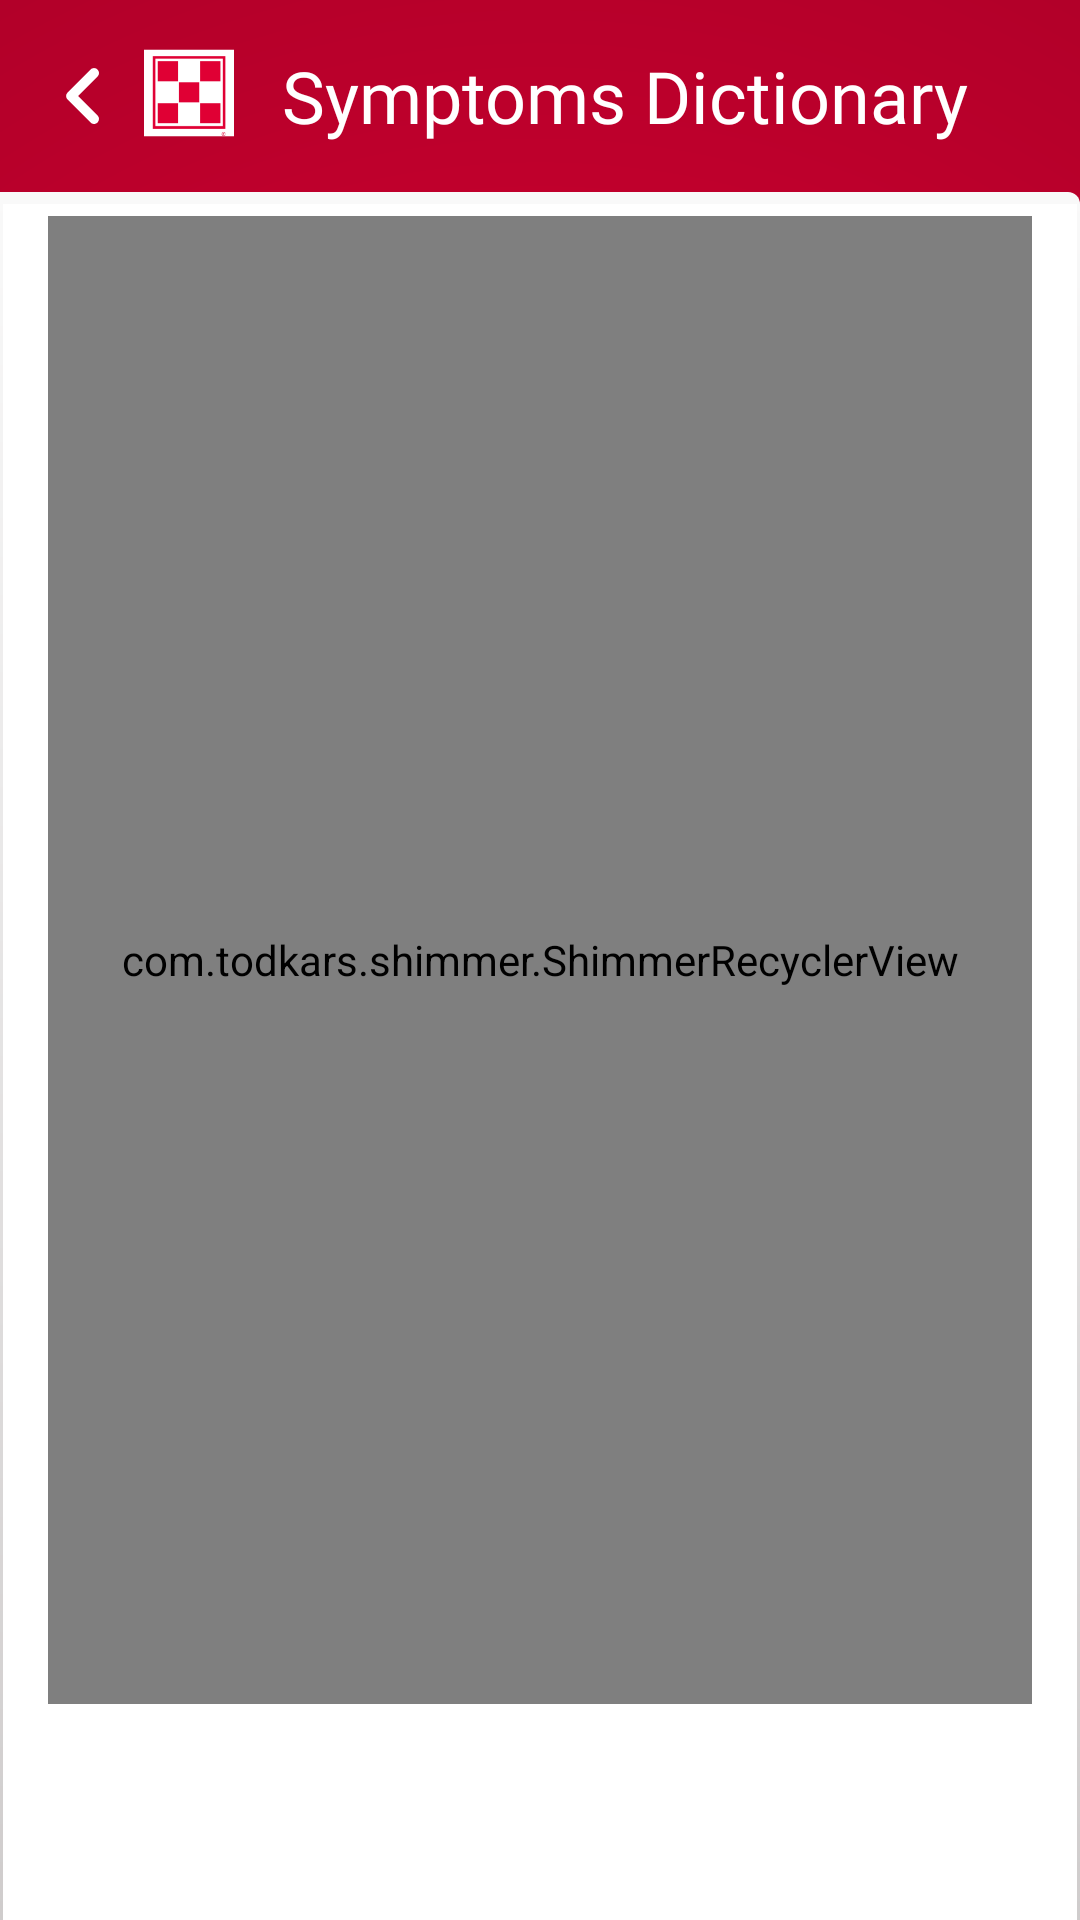

Icon click points for this 1080px x 1920px phone screenshot, format [x,y]:
arrow left: [82,96]
